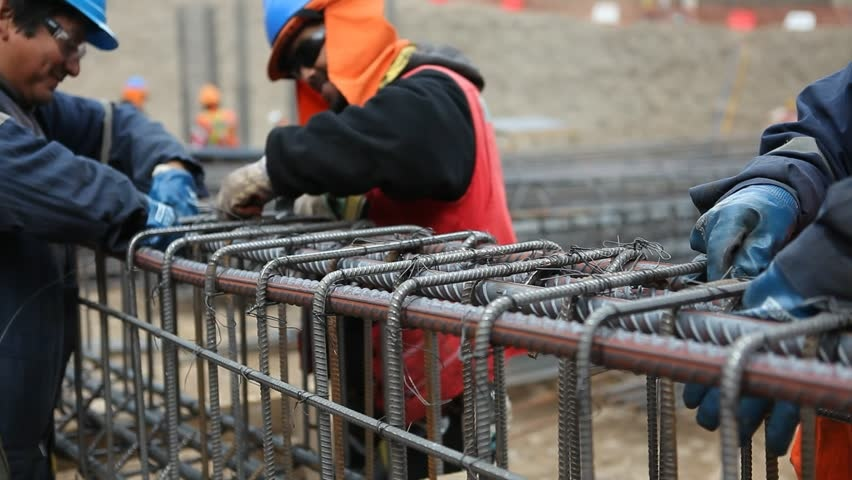blue: (260, 2, 372, 110), (1, 2, 112, 101)
